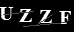F: (58, 10, 73, 25)
U: (1, 6, 13, 21)
Z: (38, 9, 54, 24), (18, 8, 33, 23)
